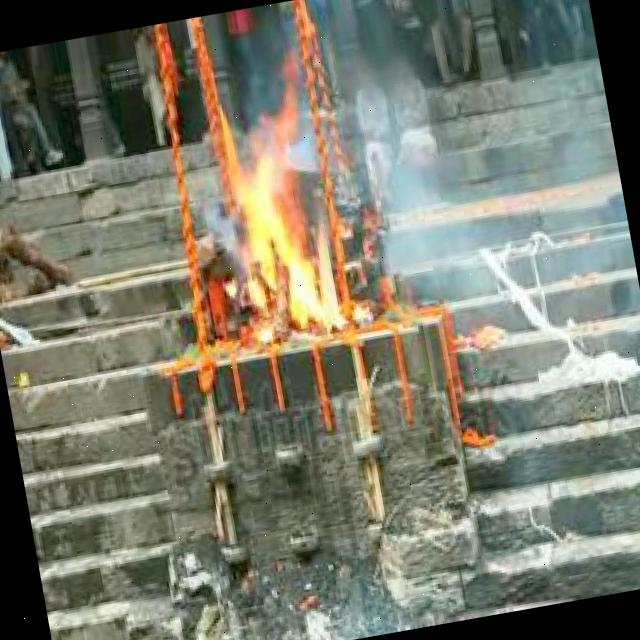fire: (222, 138, 346, 348)
